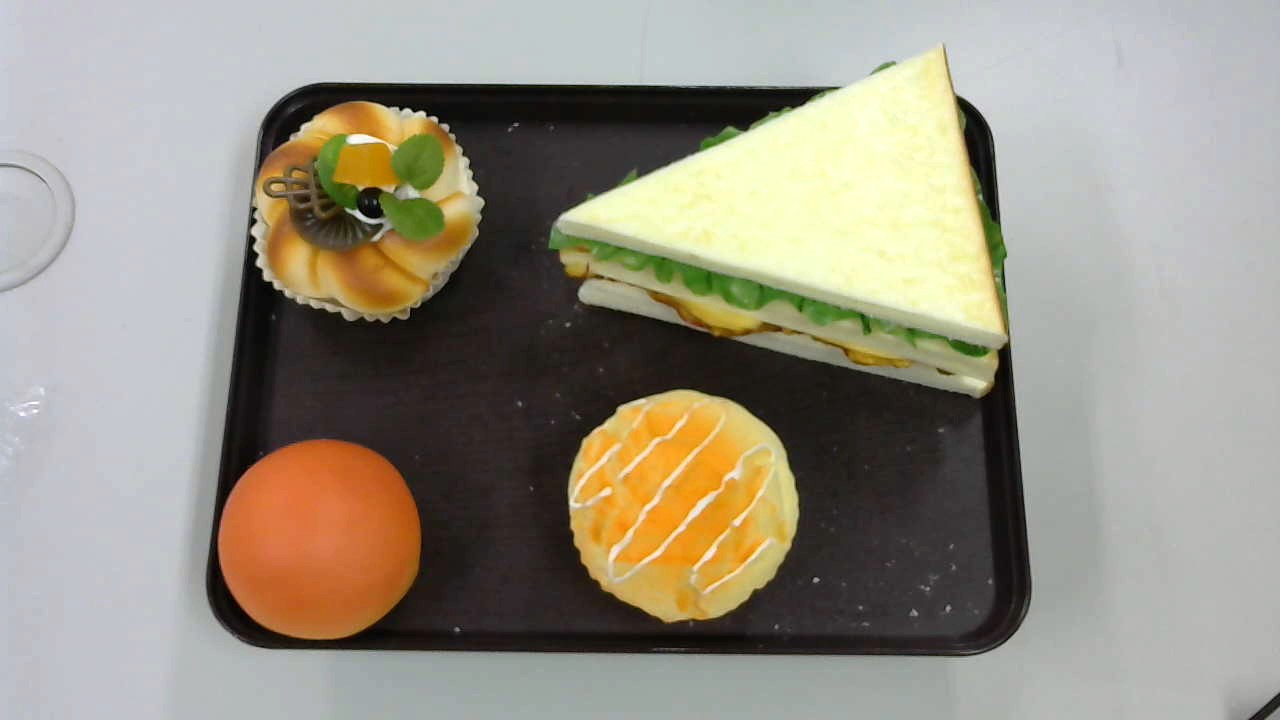bun: (217, 438, 421, 642)
cupcake: (568, 387, 800, 622)
fruit tart: (249, 98, 484, 323)
sandwich: (548, 43, 1009, 399)
